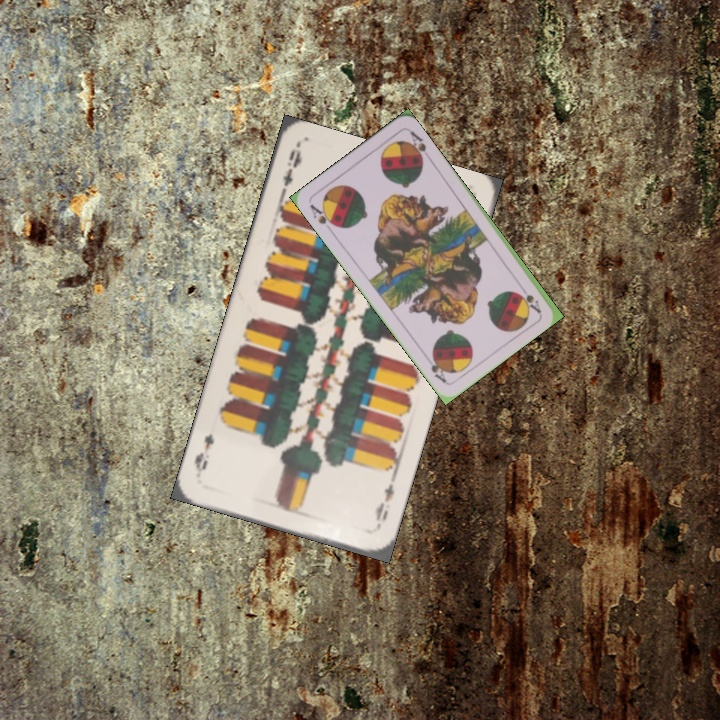E9: (275, 144, 304, 204), (370, 479, 397, 533)
SA: (305, 200, 340, 235), (514, 279, 543, 315)
